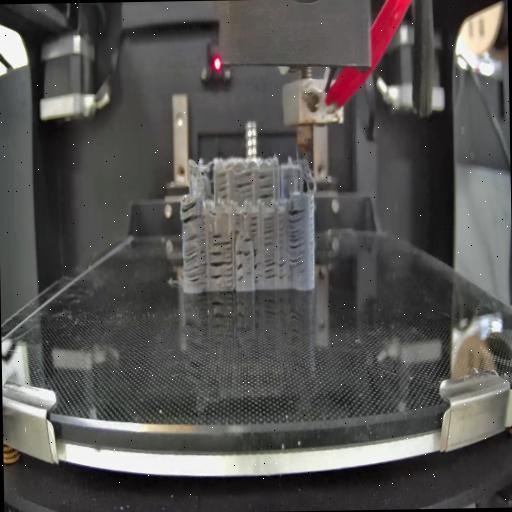cracks: (184, 234, 208, 286), (288, 206, 305, 268), (208, 252, 234, 288), (264, 255, 286, 280), (234, 173, 254, 199), (182, 200, 202, 224), (262, 215, 276, 247), (259, 171, 275, 199), (218, 172, 230, 200), (254, 248, 263, 284), (212, 232, 232, 248), (236, 264, 245, 285), (234, 214, 242, 236), (250, 216, 258, 236), (237, 248, 251, 258), (242, 238, 253, 244)
